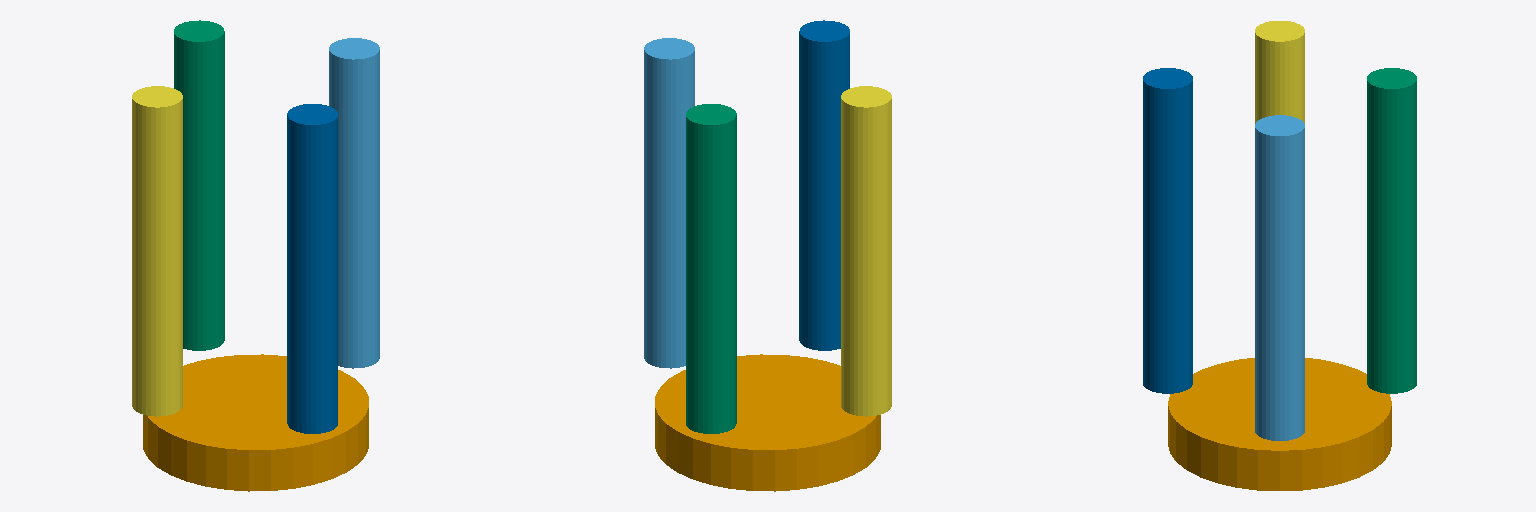
robot.urdf — Power_Gripper_-_Dry_-_Medium_Objects:
<?xml version="1.0"?>
<robot name="Power_Gripper_-_Dry_-_Medium_Objects">

    <link name="palm_link">
        <visual>
            <geometry>
                <cylinder radius="0.0250" length="0.0100"/>
            </geometry>
        </visual>
        <collision>
            <geometry>
                <cylinder radius="0.0250" length="0.0100"/>
            </geometry>
        </collision>
    </link>

    
    <link name="finger_0_link">
        <visual>
            <geometry>
                <cylinder radius="0.0056" length="0.0750"/>
            </geometry>
            <origin xyz="0 0 0.0375"/>
        </visual>
        <collision>
            <geometry>
                <cylinder radius="0.0056" length="0.0750"/>
            </geometry>
            <origin xyz="0 0 0.0375"/>
        </collision>
    </link>

    <joint name="finger_0_joint" type="revolute">
        <parent link="palm_link"/>
        <child link="finger_0_link"/>
        <origin xyz="0.0250 0.0000 0.0100" rpy="0 0 0.0000"/>
        <axis xyz="0 1 0"/>
        <limit lower="-1.57" upper="1.57" effort="10" velocity="1"/>
    </joint>

    <link name="finger_1_link">
        <visual>
            <geometry>
                <cylinder radius="0.0056" length="0.0750"/>
            </geometry>
            <origin xyz="0 0 0.0375"/>
        </visual>
        <collision>
            <geometry>
                <cylinder radius="0.0056" length="0.0750"/>
            </geometry>
            <origin xyz="0 0 0.0375"/>
        </collision>
    </link>

    <joint name="finger_1_joint" type="revolute">
        <parent link="palm_link"/>
        <child link="finger_1_link"/>
        <origin xyz="0.0000 0.0250 0.0100" rpy="0 0 1.5708"/>
        <axis xyz="0 1 0"/>
        <limit lower="-1.57" upper="1.57" effort="10" velocity="1"/>
    </joint>

    <link name="finger_2_link">
        <visual>
            <geometry>
                <cylinder radius="0.0056" length="0.0750"/>
            </geometry>
            <origin xyz="0 0 0.0375"/>
        </visual>
        <collision>
            <geometry>
                <cylinder radius="0.0056" length="0.0750"/>
            </geometry>
            <origin xyz="0 0 0.0375"/>
        </collision>
    </link>

    <joint name="finger_2_joint" type="revolute">
        <parent link="palm_link"/>
        <child link="finger_2_link"/>
        <origin xyz="-0.0250 0.0000 0.0100" rpy="0 0 3.1416"/>
        <axis xyz="0 1 0"/>
        <limit lower="-1.57" upper="1.57" effort="10" velocity="1"/>
    </joint>

    <link name="finger_3_link">
        <visual>
            <geometry>
                <cylinder radius="0.0056" length="0.0750"/>
            </geometry>
            <origin xyz="0 0 0.0375"/>
        </visual>
        <collision>
            <geometry>
                <cylinder radius="0.0056" length="0.0750"/>
            </geometry>
            <origin xyz="0 0 0.0375"/>
        </collision>
    </link>

    <joint name="finger_3_joint" type="revolute">
        <parent link="palm_link"/>
        <child link="finger_3_link"/>
        <origin xyz="-0.0000 -0.0250 0.0100" rpy="0 0 4.7124"/>
        <axis xyz="0 1 0"/>
        <limit lower="-1.57" upper="1.57" effort="10" velocity="1"/>
    </joint>

</robot>

--- Facts derived from the render (not from the file) ---
The picture shows the robot from 3 angles, left to right: view 1: azimuth 30°, elevation 25°; view 2: azimuth 150°, elevation 25°; view 3: azimuth 270°, elevation 25°; orthographic projection.
Model Power_Gripper_-_Dry_-_Medium_Objects with 5 links and 4 joints (4 revolute), rooted at palm_link, posed every joint at zero.
Visible links, largest first — view 1: palm_link, finger_2_link, finger_3_link, finger_0_link, finger_1_link; view 2: palm_link, finger_2_link, finger_1_link, finger_0_link, finger_3_link; view 3: palm_link, finger_0_link, finger_1_link, finger_3_link, finger_2_link.
Link boxes in pixels (<box>): palm_link: <box>143,354,368,491</box>; finger_2_link: <box>132,86,182,416</box>; finger_3_link: <box>287,104,337,433</box>; finger_0_link: <box>329,38,379,368</box>; finger_1_link: <box>174,20,224,350</box>; palm_link: <box>655,354,880,491</box>; finger_2_link: <box>841,86,891,416</box>; finger_1_link: <box>686,104,736,433</box>; finger_0_link: <box>644,38,694,368</box>; finger_3_link: <box>799,20,849,350</box>; palm_link: <box>1168,358,1391,490</box>; finger_0_link: <box>1255,115,1304,440</box>; finger_1_link: <box>1367,68,1416,393</box>; finger_3_link: <box>1143,68,1192,393</box>; finger_2_link: <box>1255,21,1304,123</box>.
Bounding box of the posed robot: 0.0612 × 0.0612 × 0.09 m (x, y, z).
Geometry: primitives only (box / cylinder / sphere), no mesh files.